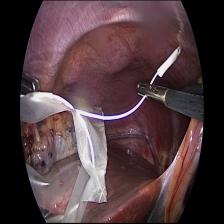Grasper: (135, 79, 169, 104), (20, 72, 43, 96)
Specimen Bag: (15, 95, 115, 221)
